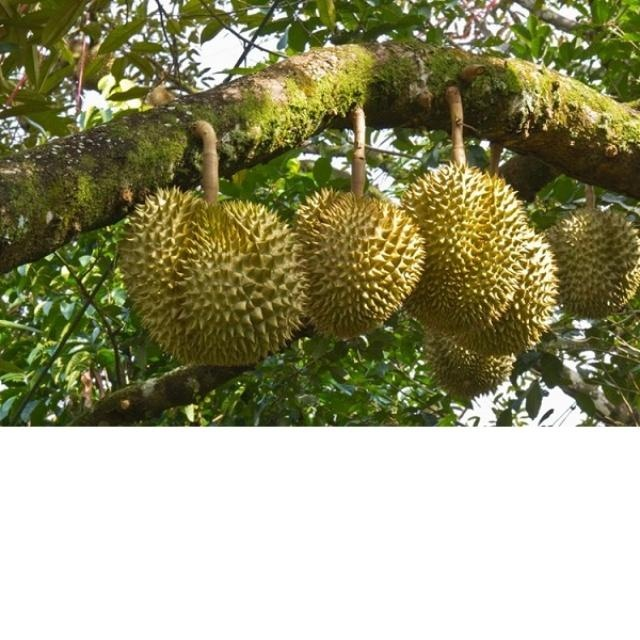sau_rieng: (121, 189, 305, 367), (400, 166, 557, 355), (296, 189, 422, 336), (552, 204, 639, 316)
